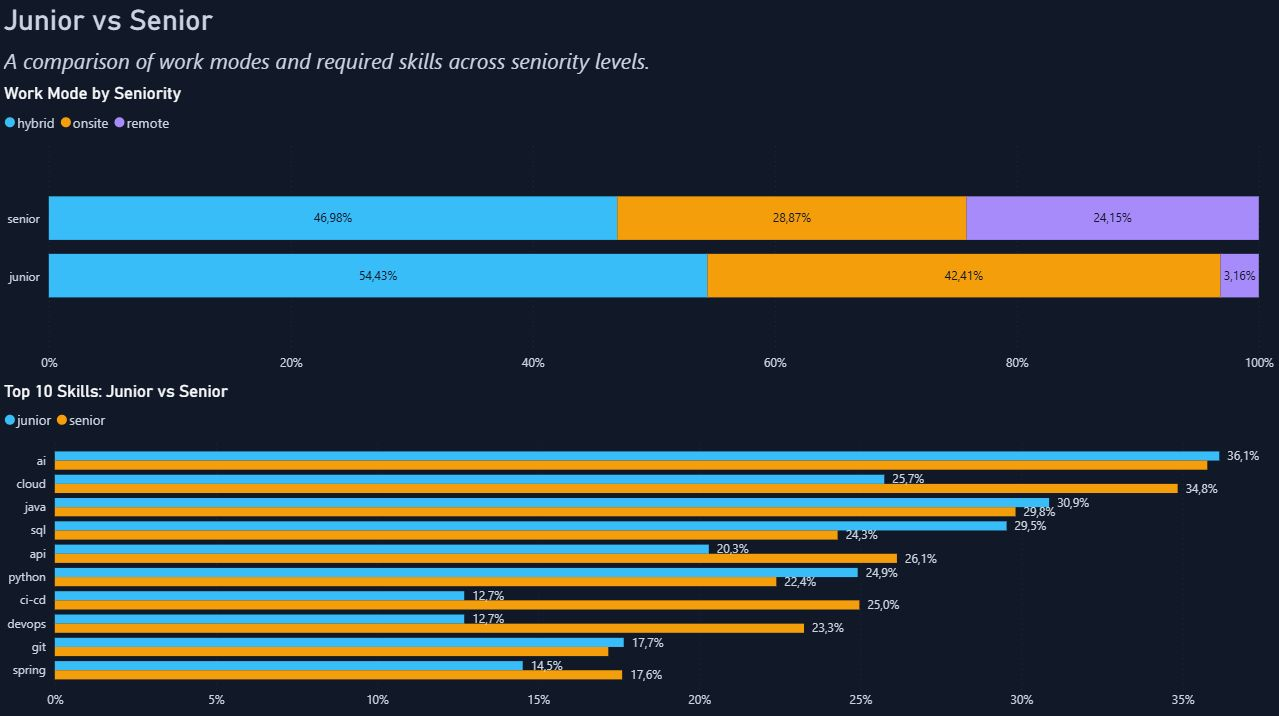

The dashboard page shown, as its layout file describes it:
{"tool":"powerbi","page":{"name":"Junior vs Senior","canvas":[1280,720],"ordinal":1},"visuals":[{"type":"hundredPercentStackedBarChart","title":"Work Mode by Seniority","fields":{"Category":["jobs.seniority"],"Y":["jobs.Total jobs"],"Series":["jobs.work_mode"]},"box":[0,85,1280,297.5],"z":0},{"type":"clusteredBarChart","title":"Top 10 Skills: Junior vs Senior","fields":{"Category":["skills.skill_name"],"Y":["job_skills.Skill Share"],"Series":["jobs.seniority"]},"box":[0,382.5,1280,337.5],"z":1000},{"type":"textbox","box":[0,0,300,42.5],"z":1001},{"type":"textbox","box":[0,42.5,660,42.5],"z":1002}]}

Visuals, with their boxes in screenshot pixels (x1, y1, x2, y2), scaled from the page's 1280x720 canvas onto the 1279x716 screenshot:
"Work Mode by Seniority" hundredPercentStackedBarChart: [0, 85, 1278, 380]
"Top 10 Skills: Junior vs Senior" clusteredBarChart: [0, 380, 1278, 715]
textbox: [0, 0, 300, 42]
textbox: [0, 42, 659, 85]
